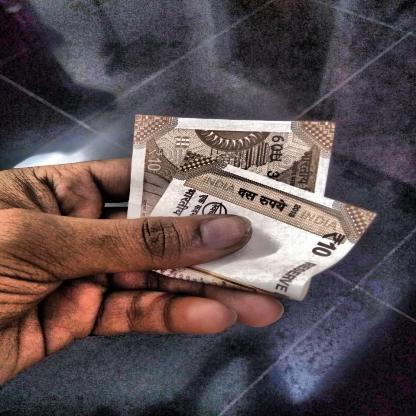Rs10: (307, 227, 352, 261)
